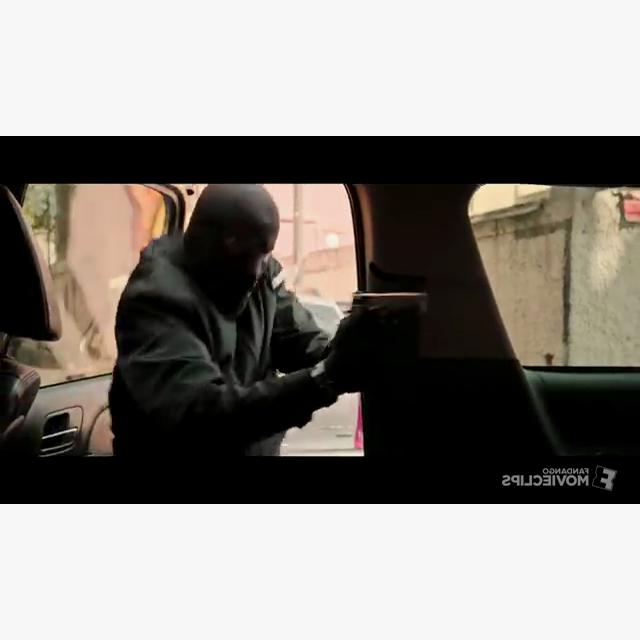criminal: (108, 184, 430, 456)
weapon: (341, 291, 429, 327)
